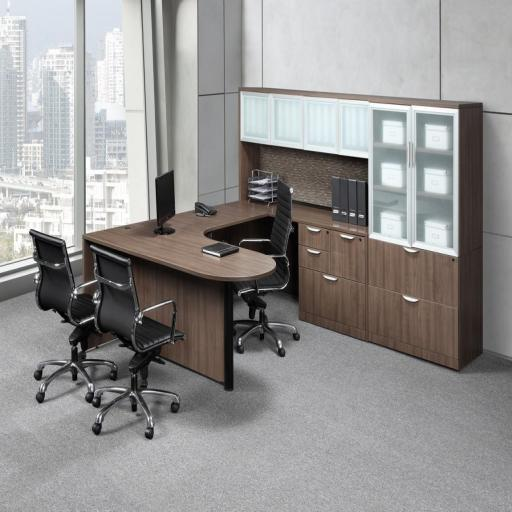chair: (89, 243, 187, 440), (28, 229, 119, 404), (232, 179, 300, 357)
desk: (82, 88, 484, 391)
wall: (241, 0, 511, 360), (198, 0, 240, 206)
